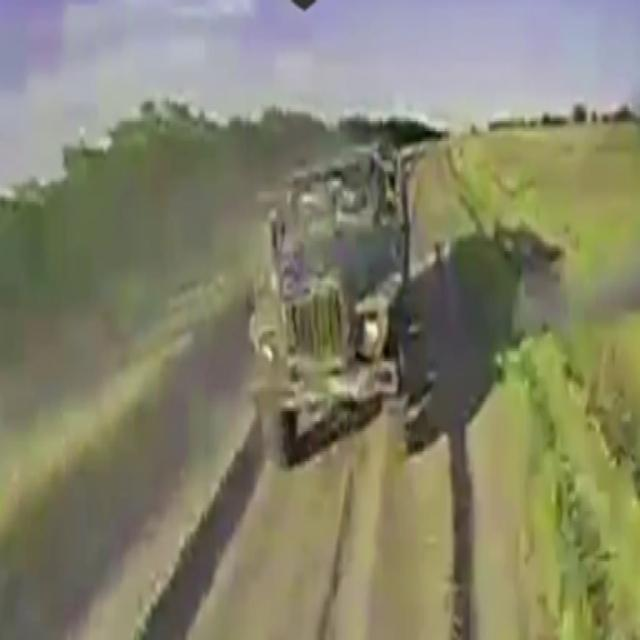TRUCK: (247, 134, 408, 469)
